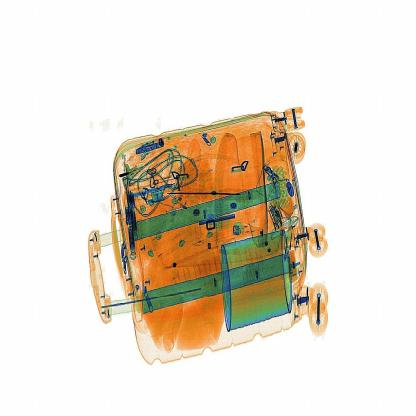wrench: (162, 172, 269, 214)
